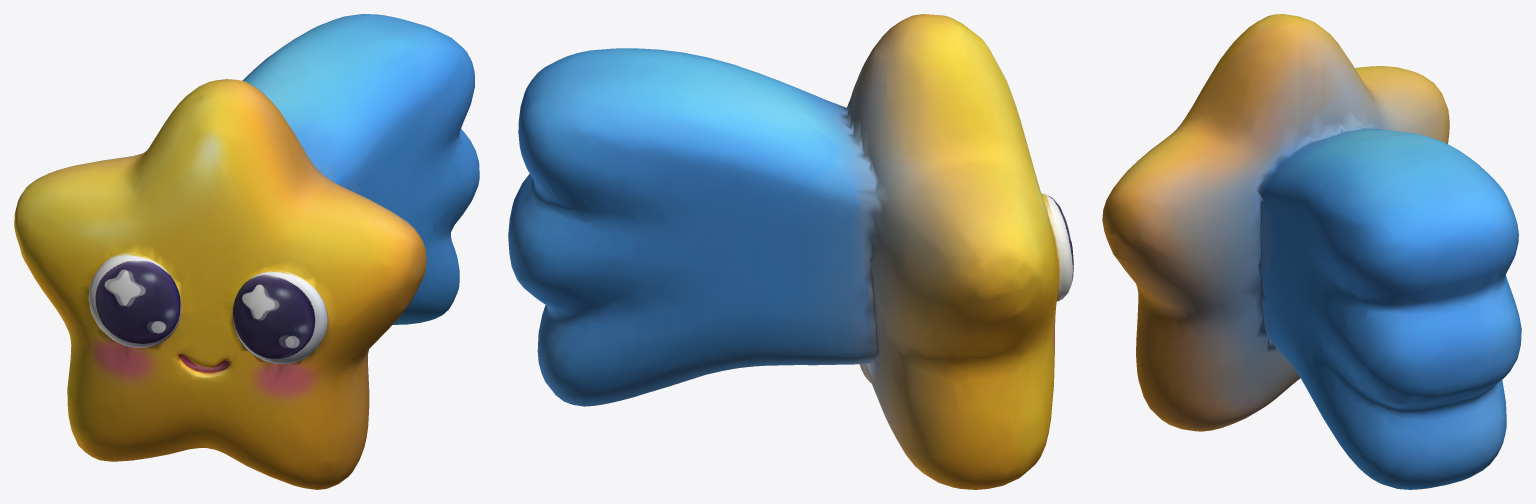
Rendered from cs-my-comet.glb.
3 renders of one model, left to right at view 1: azimuth 30°, elevation 25°; view 2: azimuth 150°, elevation 25°; view 3: azimuth 270°, elevation 25°, orthographic. The views are drawn at different scales.
Parts seen in each view (by area): view 1: tripo_node_8e1c20b0-ad45-4abe-b845-89b3242c426c; view 2: tripo_node_8e1c20b0-ad45-4abe-b845-89b3242c426c; view 3: tripo_node_8e1c20b0-ad45-4abe-b845-89b3242c426c.
Part boxes in pixels (x1=…): tripo_node_8e1c20b0-ad45-4abe-b845-89b3242c426c: x1=14, y1=14, x2=479, y2=489; tripo_node_8e1c20b0-ad45-4abe-b845-89b3242c426c: x1=508, y1=14, x2=1073, y2=489; tripo_node_8e1c20b0-ad45-4abe-b845-89b3242c426c: x1=1102, y1=14, x2=1521, y2=489.
Size of the model in its own units: 1 by 0.78 by 0.7753.
1 material, 1 textured.
